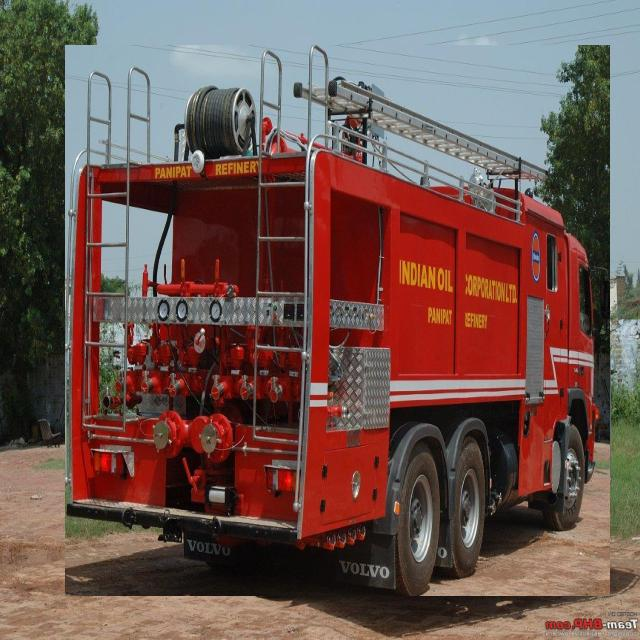emergency: (65, 45, 610, 596)
